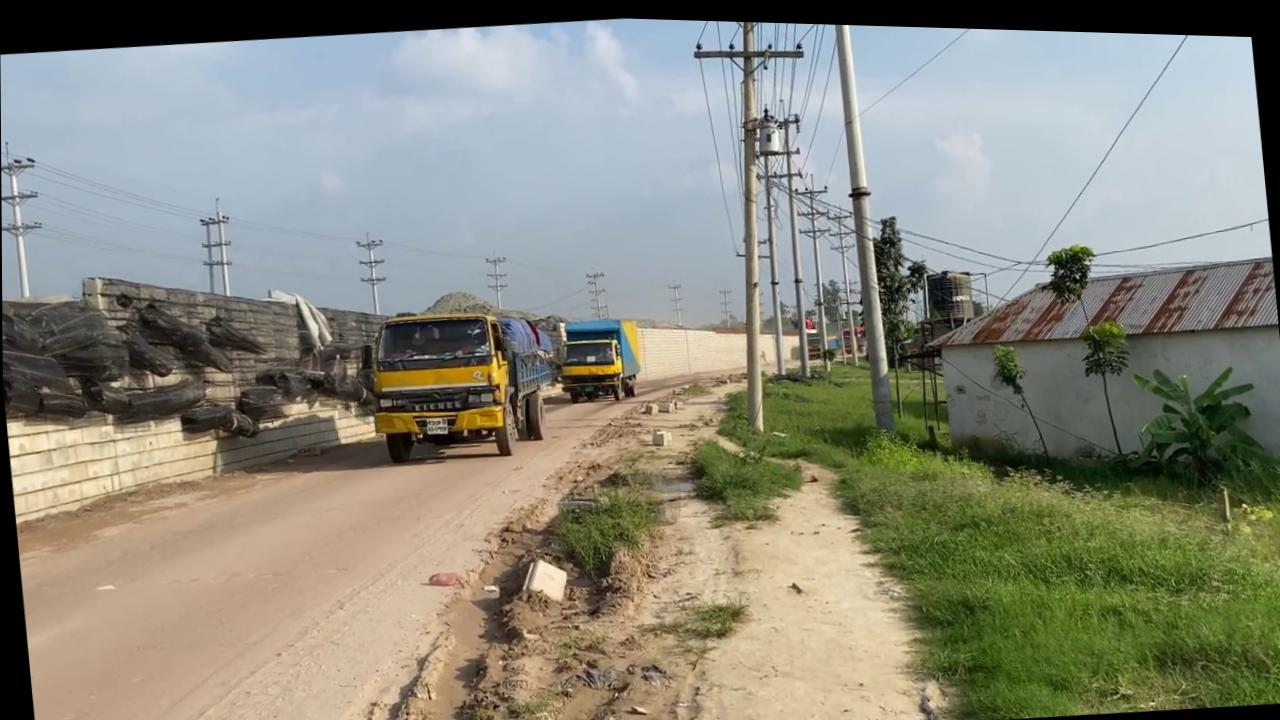Garbage: (2, 262, 377, 461)
Muddy road: (3, 339, 787, 720)
Obstacle: (517, 551, 569, 602), (649, 423, 671, 443)
Pole: (688, 16, 837, 431), (708, 16, 792, 429), (830, 19, 895, 429)
Traffic-sign: (1076, 310, 1138, 452), (1033, 232, 1099, 302)
Tree: (352, 296, 563, 467), (549, 309, 644, 402)
